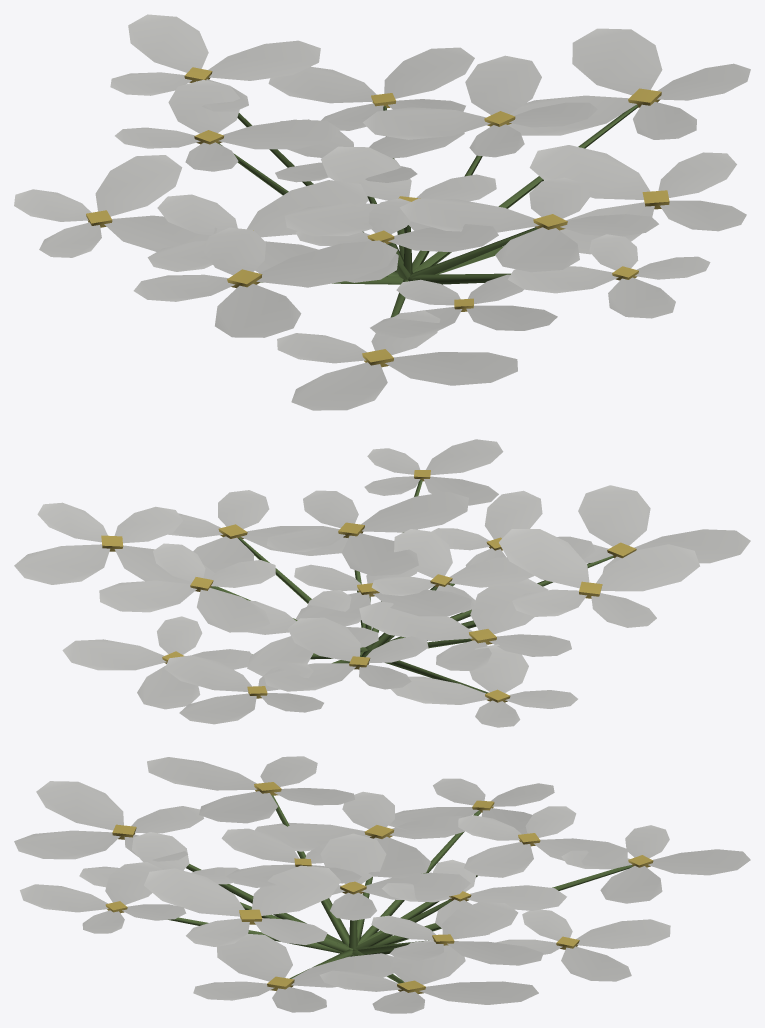
Rendered from flower-iberis-v4.glb.
The picture shows the model from 3 angles, top to bottom: view 1: azimuth 30°, elevation 25°; view 2: azimuth 150°, elevation 25°; view 3: azimuth 270°, elevation 25°; orthographic projection. The views are drawn at different scales.
Parts seen in each view (by area): view 1: tint-surface, surface; view 2: tint-surface, surface; view 3: tint-surface, surface.
Boxes of the visible parts, bbox=[...] form: tint-surface: bbox=[14, 14, 750, 410]; surface: bbox=[86, 67, 669, 367]; tint-surface: bbox=[14, 439, 750, 727]; surface: bbox=[101, 470, 636, 702]; tint-surface: bbox=[14, 756, 750, 1013]; surface: bbox=[105, 782, 653, 993].
Size of the model in its own units: 0.5609 by 0.093 by 0.6358.
